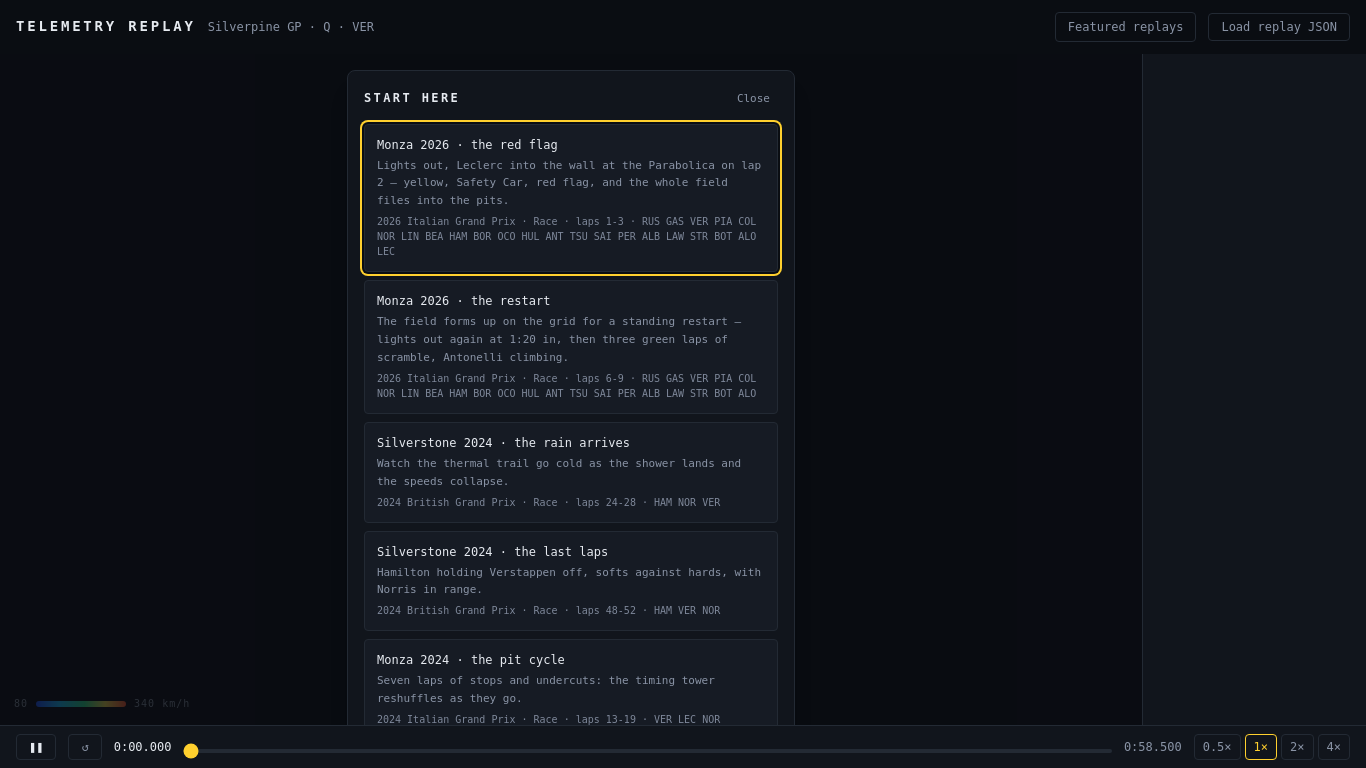
Scenario: the featured-replay gallery › returns focus to the toggle when a scenario is chosen
Click the button "Monza 2026 · the red flag" at (467, 144), box [364,124,778,272]
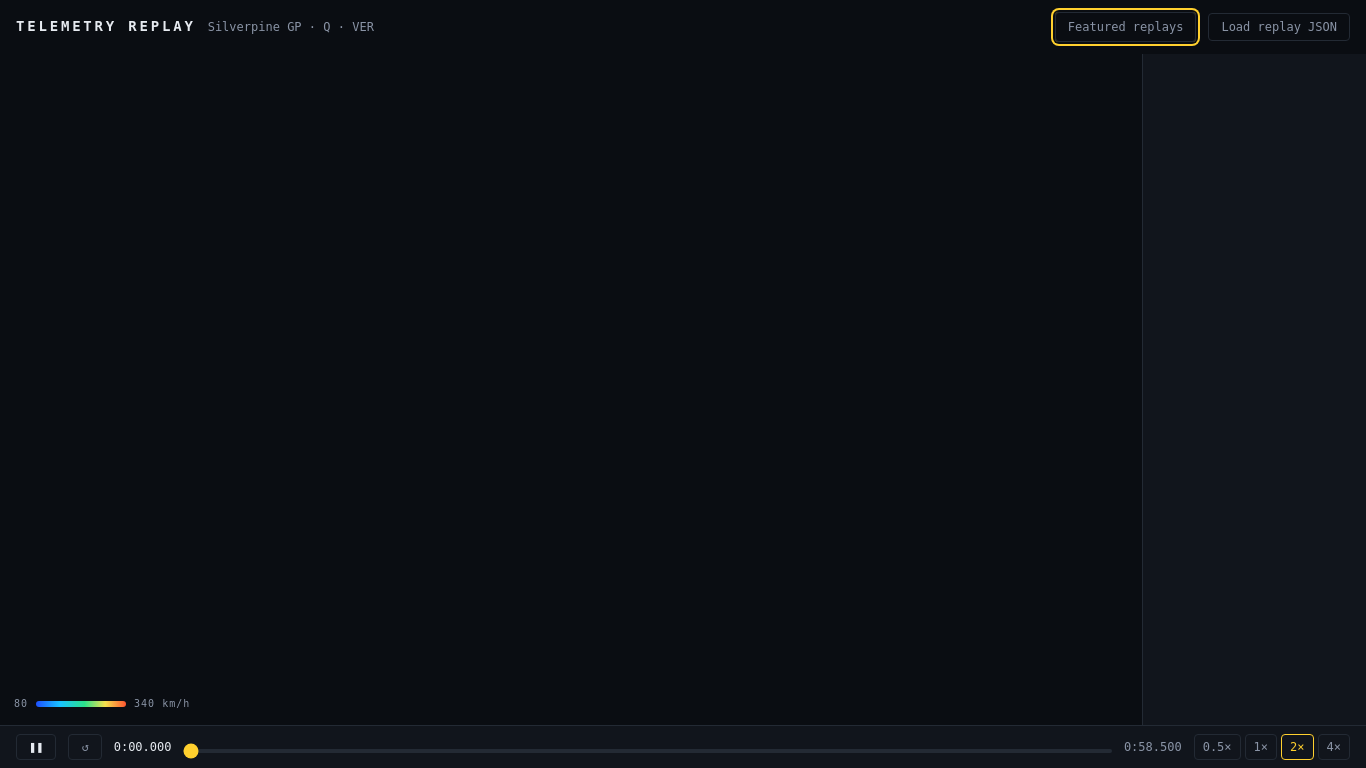
Expected: the dialog is gone
